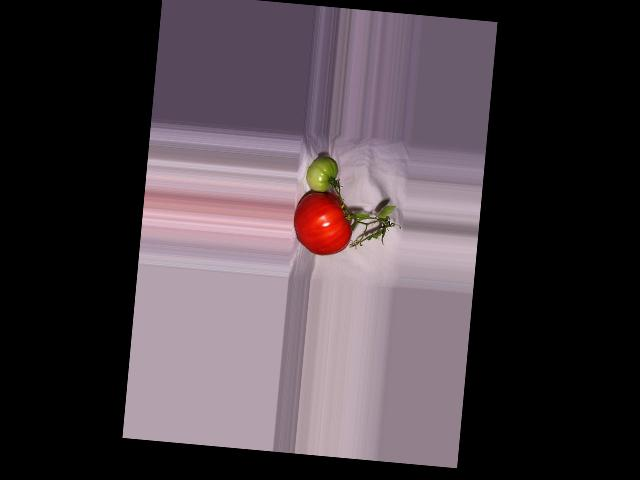tomato: (291, 188, 355, 257)
